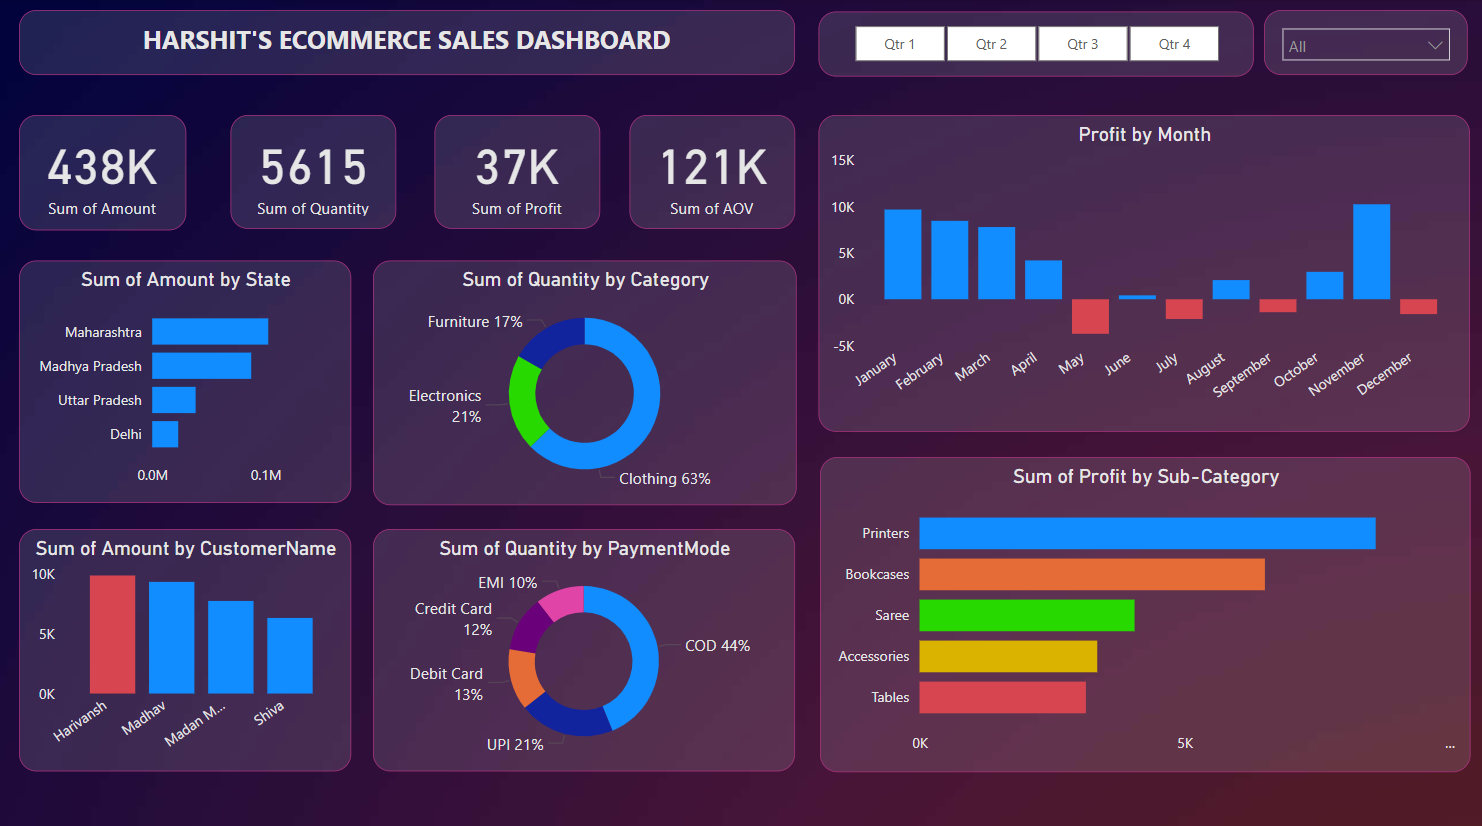

The page's visual inventory and layout, read from the dashboard file:
{"tool":"powerbi","page":{"name":"Page 1","canvas":[1280,720],"ordinal":0},"visuals":[{"type":"textbox","box":[18.2,10.6,667.8,56],"z":0},{"type":"columnChart","title":"Profit by Month","fields":{"Y":["Details.Profit"],"Category":["Orders.Order Date.Variation.Date Hierarchy.Month"]},"box":[706.8,100.4,560.5,272.8],"z":1000},{"type":"barChart","fields":{"Category":["Details.Sub-Category"],"Y":["Details.Profit"]},"box":[707.1,395.2,560.3,271],"z":2000},{"type":"donutChart","fields":{"Category":["Details.Category"],"Y":["Details.Quantity"]},"box":[322.5,225.6,364.9,210.5],"z":3000},{"type":"donutChart","fields":{"Y":["Details.Quantity"],"Category":["Details.PaymentMode"]},"box":[322.5,457.3,363.4,209],"z":4000},{"type":"card","fields":{"Values":["Details.Amount"]},"box":[18.6,100.4,143.8,99.2],"z":5000},{"type":"card","fields":{"Values":["Details.Quantity"]},"box":[199.6,100.4,142.6,98],"z":5001},{"type":"card","fields":{"Values":["Details.Profit"]},"box":[375.7,100.4,142.6,98],"z":5002},{"type":"card","fields":{"Values":["Details.AOV"]},"box":[543.1,100.4,142.6,98],"z":5003},{"type":"barChart","fields":{"Y":["Details.Amount"],"Category":["Orders.State"]},"box":[18.2,225.6,286.2,209],"z":5004},{"type":"columnChart","fields":{"Category":["Orders.CustomerName"],"Y":["Details.Amount"]},"box":[18.2,457.3,286.2,209],"z":5005},{"type":"slicer","fields":{"Values":["Orders.Order Date.Variation.Date Hierarchy.Quarter"]},"box":[706.8,11.2,374.5,55.8],"z":5006},{"type":"slicer","fields":{"Values":["Orders.State"]},"box":[1090.2,10.6,175.6,56],"z":5007}]}

Visuals, with their boxes in screenshot pixels (x1, y1, x2, y2), scaled from the page's 1280x720 canvas onto the 1482x826 screenshot:
textbox: [left=21, top=12, right=794, bottom=76]
"Profit by Month" columnChart: [left=818, top=115, right=1467, bottom=428]
barChart - Details.Sub-Category x Details.Profit: [left=819, top=453, right=1467, bottom=764]
donutChart - Details.Category x Details.Quantity: [left=373, top=259, right=796, bottom=500]
donutChart - Details.Quantity x Details.PaymentMode: [left=373, top=525, right=794, bottom=764]
card - Details.Amount: [left=22, top=115, right=188, bottom=229]
card - Details.Quantity: [left=231, top=115, right=396, bottom=228]
card - Details.Profit: [left=435, top=115, right=600, bottom=228]
card - Details.AOV: [left=629, top=115, right=794, bottom=228]
barChart - Details.Amount x Orders.State: [left=21, top=259, right=352, bottom=499]
columnChart - Orders.CustomerName x Details.Amount: [left=21, top=525, right=352, bottom=764]
slicer - Orders.Order Date.Variation.Date Hierarchy.Quarter: [left=818, top=13, right=1252, bottom=77]
slicer - Orders.State: [left=1262, top=12, right=1466, bottom=76]
